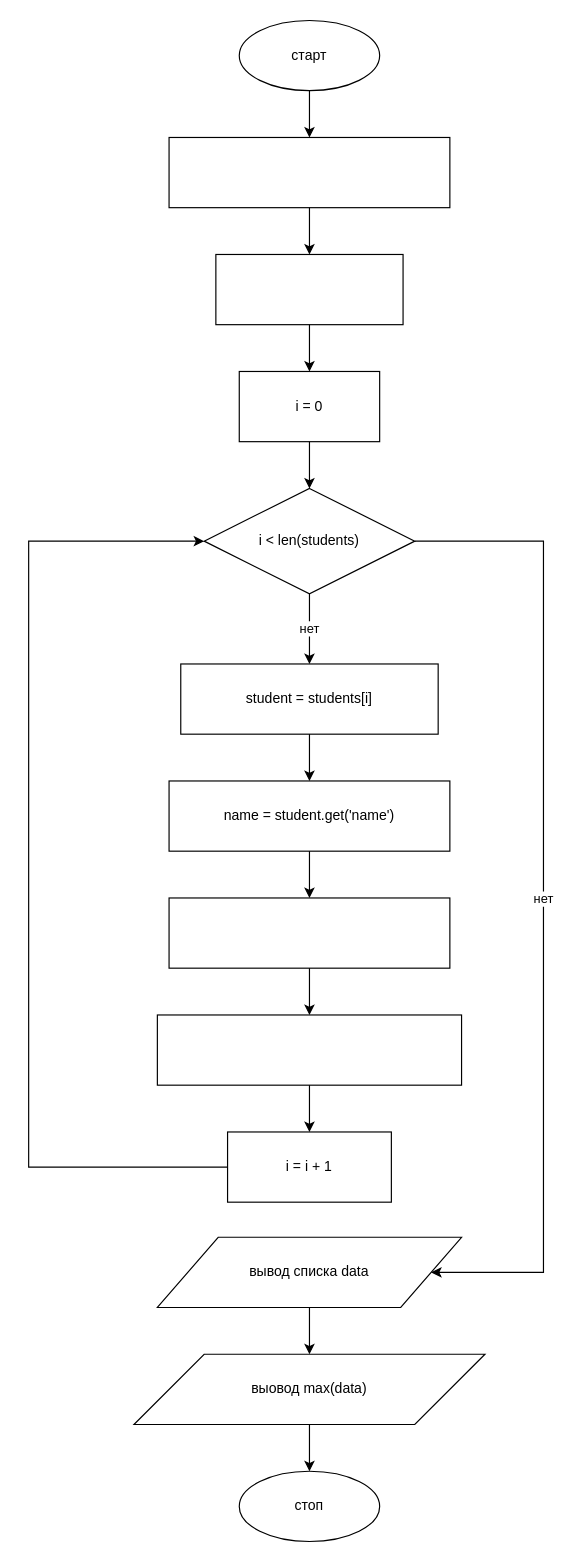
This 573x1562 diagram has some shape labels left out. Here are the shapes that lost their labels. From the top down, the centre of each, then its label:
point (309, 172): students = список студентов
point (309, 289): data = {}
point (309, 932): grades = student.get('grades')
point (309, 1049): data[name] = mean(grades)
